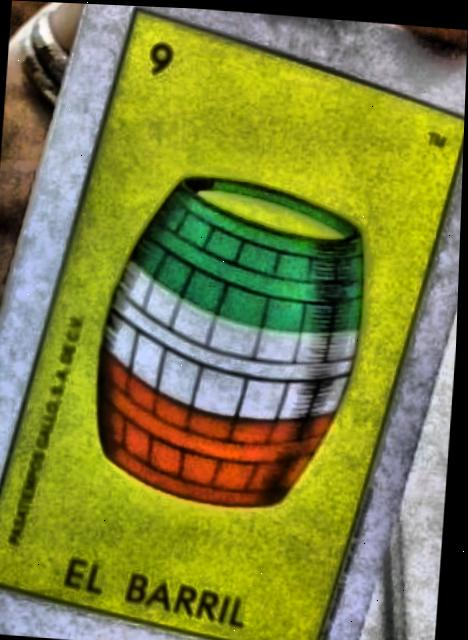El Barril: (0, 8, 465, 640)
